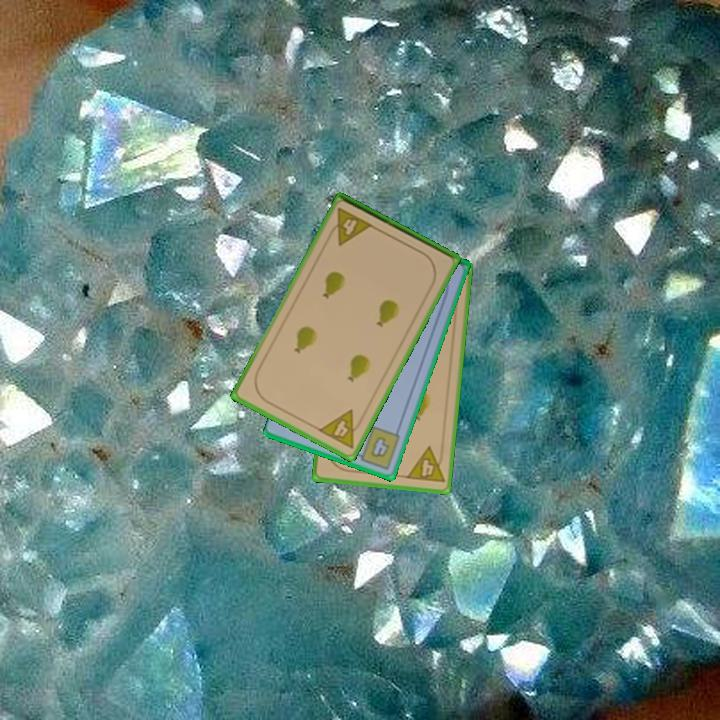4b: (351, 423, 403, 472)
4p: (315, 406, 367, 451), (324, 204, 376, 248), (403, 443, 447, 485)
